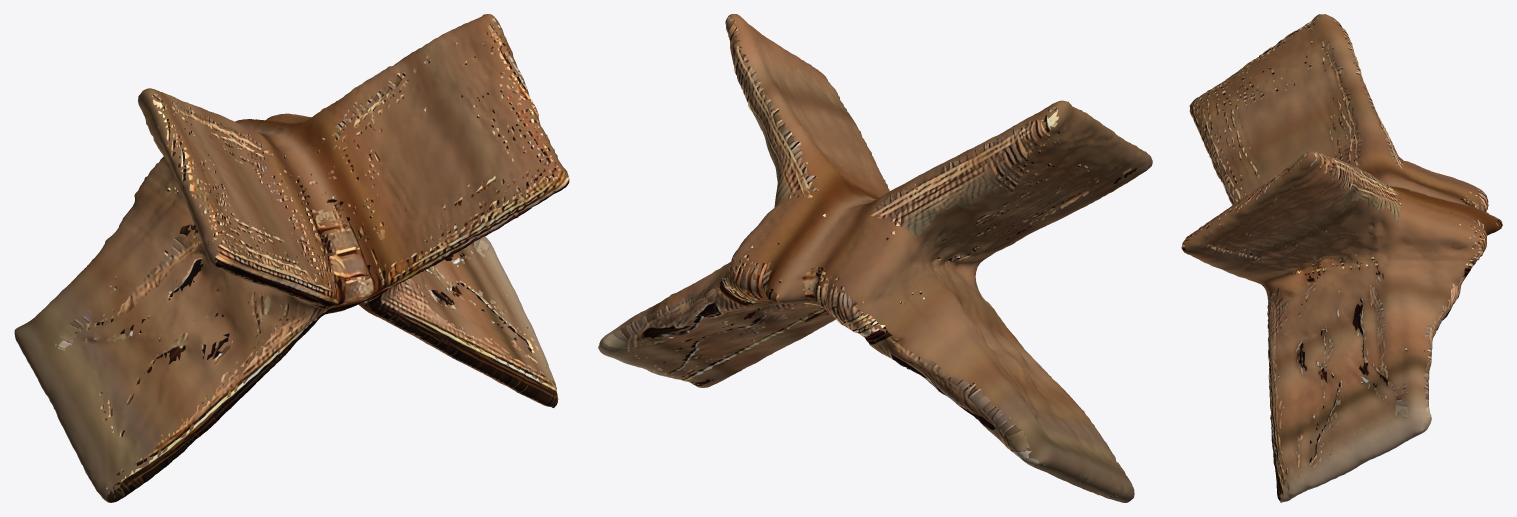
The model's file is kfl-2260.glb.
The picture shows the model from 3 angles, left to right: view 1: azimuth 30°, elevation 25°; view 2: azimuth 150°, elevation 25°; view 3: azimuth 270°, elevation 25°; orthographic projection. The views are drawn at different scales.
Parts seen in each view (by area): view 1: kfl-2260; view 2: kfl-2260; view 3: kfl-2260.
Boxes of the visible parts, left/top/right/bottom form: kfl-2260: left=14, top=14, right=569, bottom=502; kfl-2260: left=598, top=14, right=1152, bottom=502; kfl-2260: left=1181, top=14, right=1502, bottom=502.
Size of the model in its own units: 0.9931 by 0.8086 by 0.7098.
Materials: 4 (4 with a texture image).
